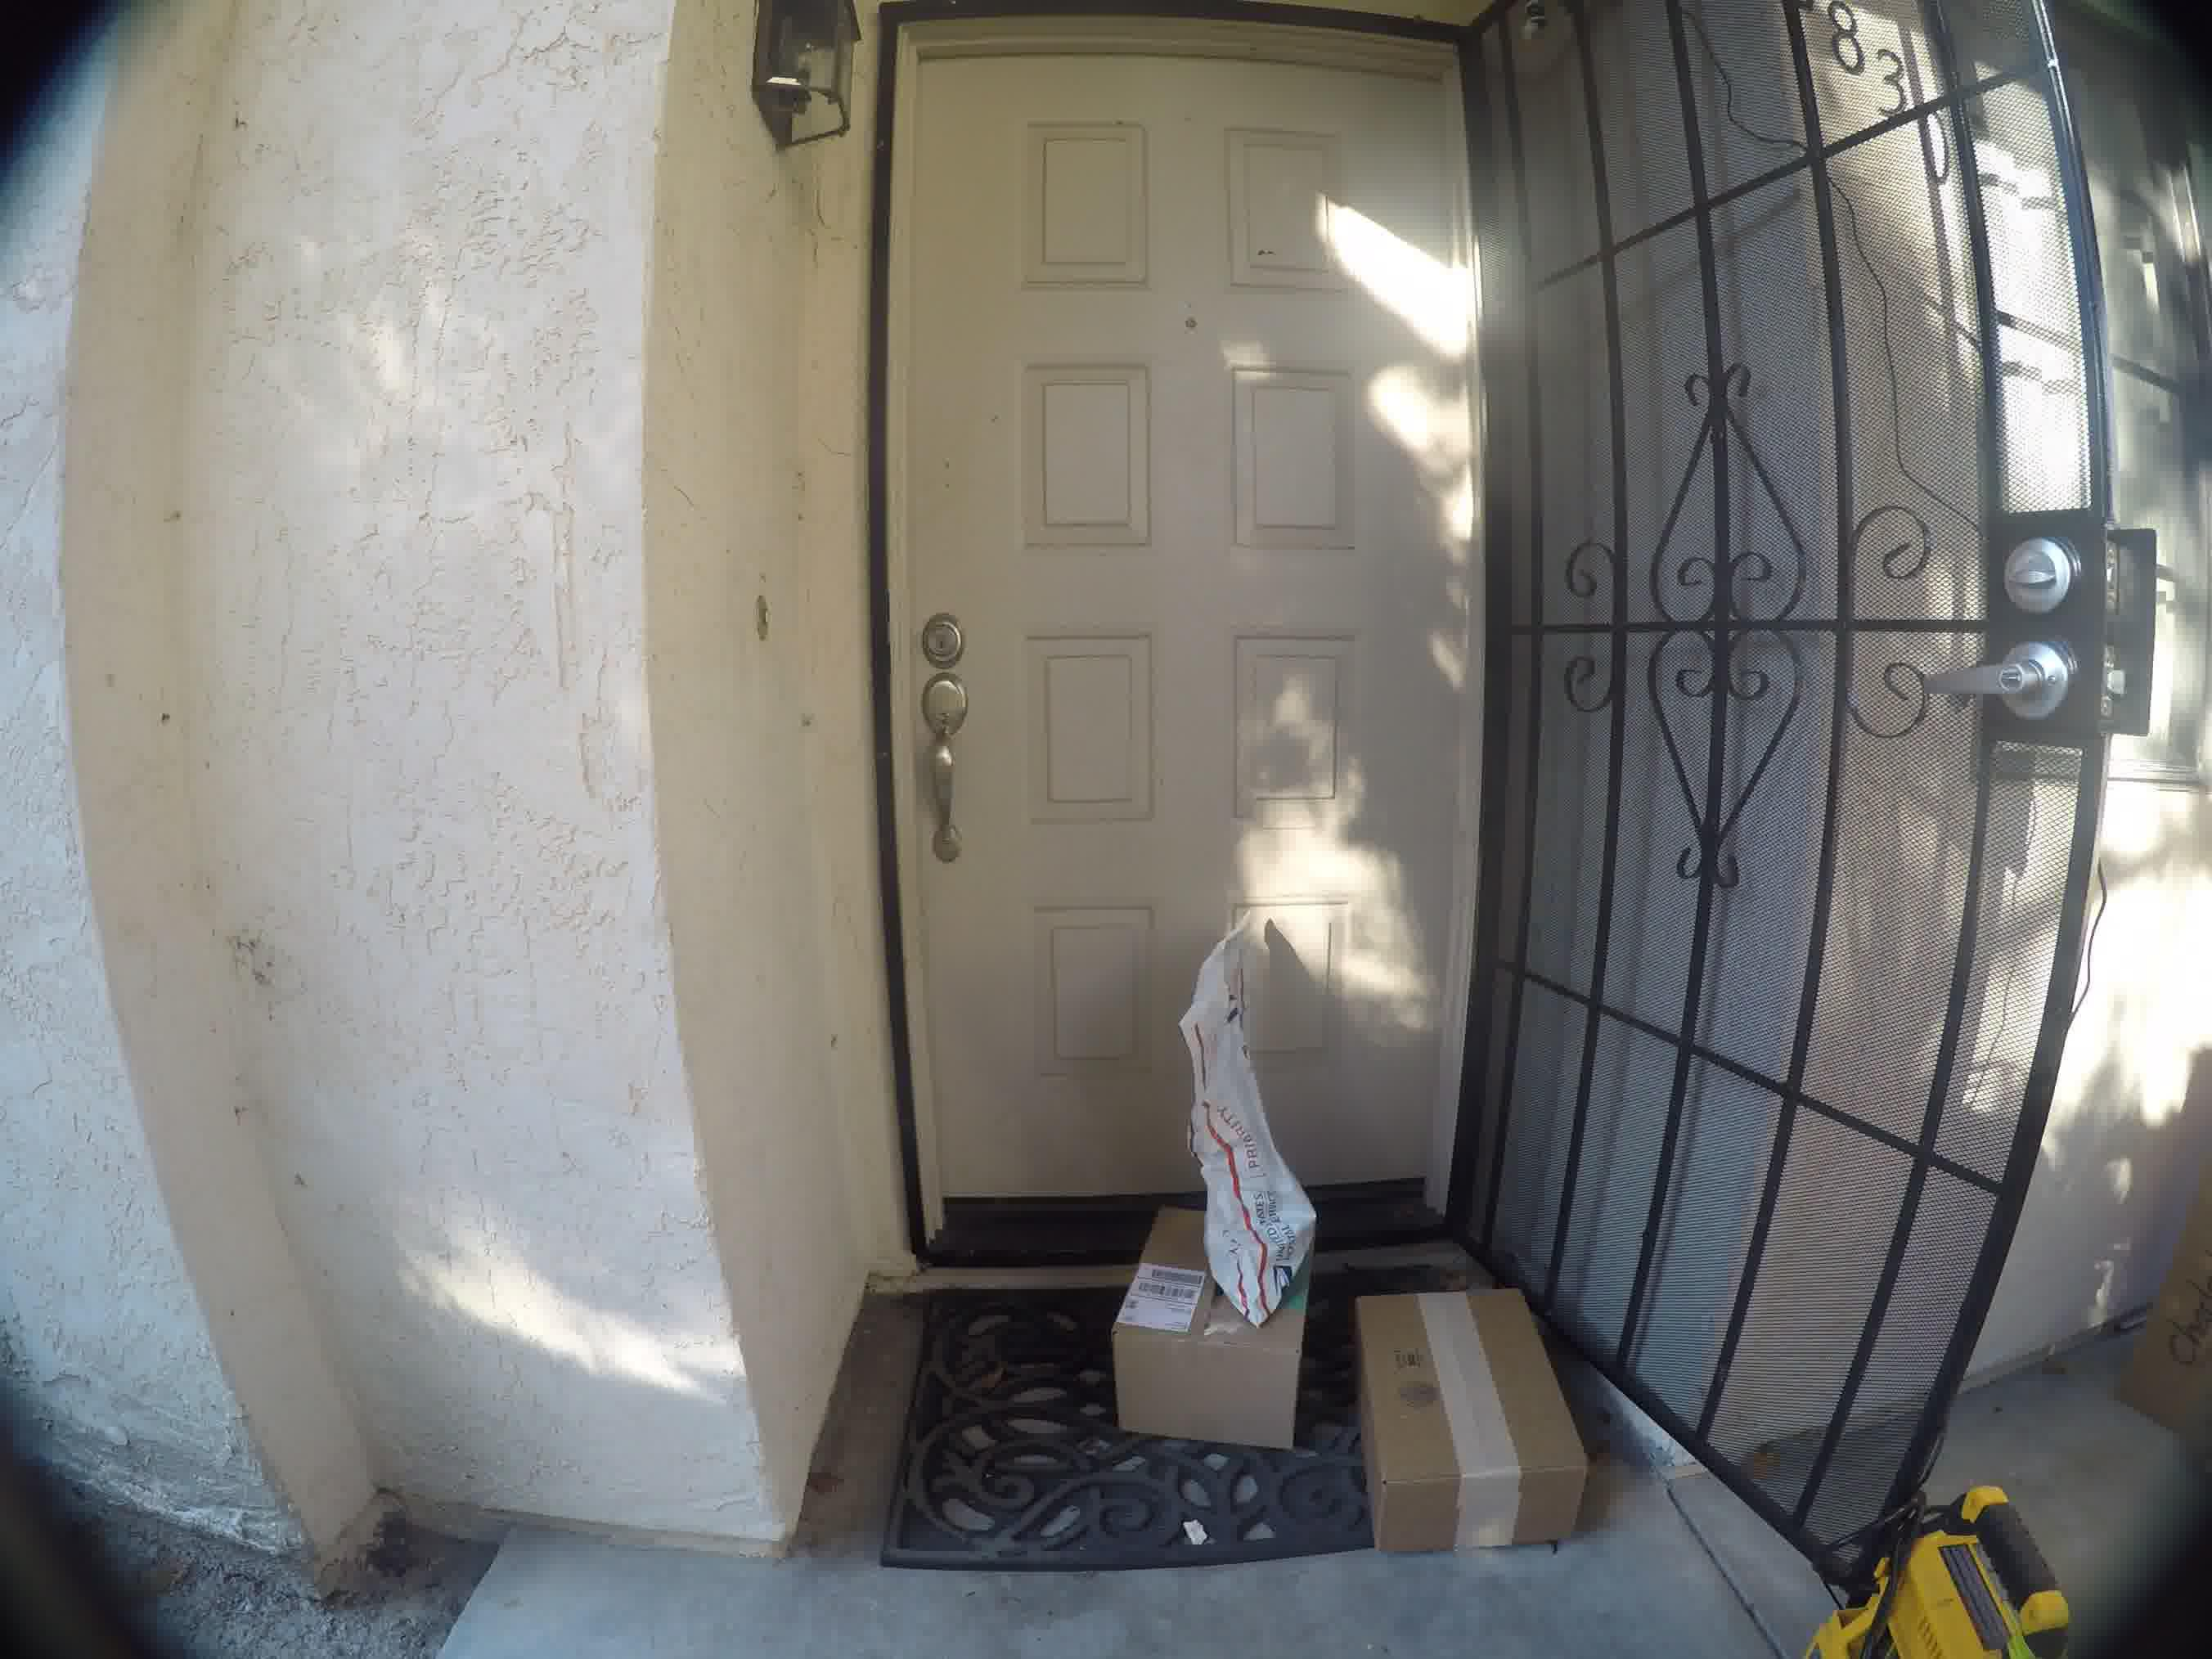box: (1346, 1305, 1602, 1554), (1113, 1297, 1313, 1445)
plastic_bag: (1158, 915, 1346, 1293)
